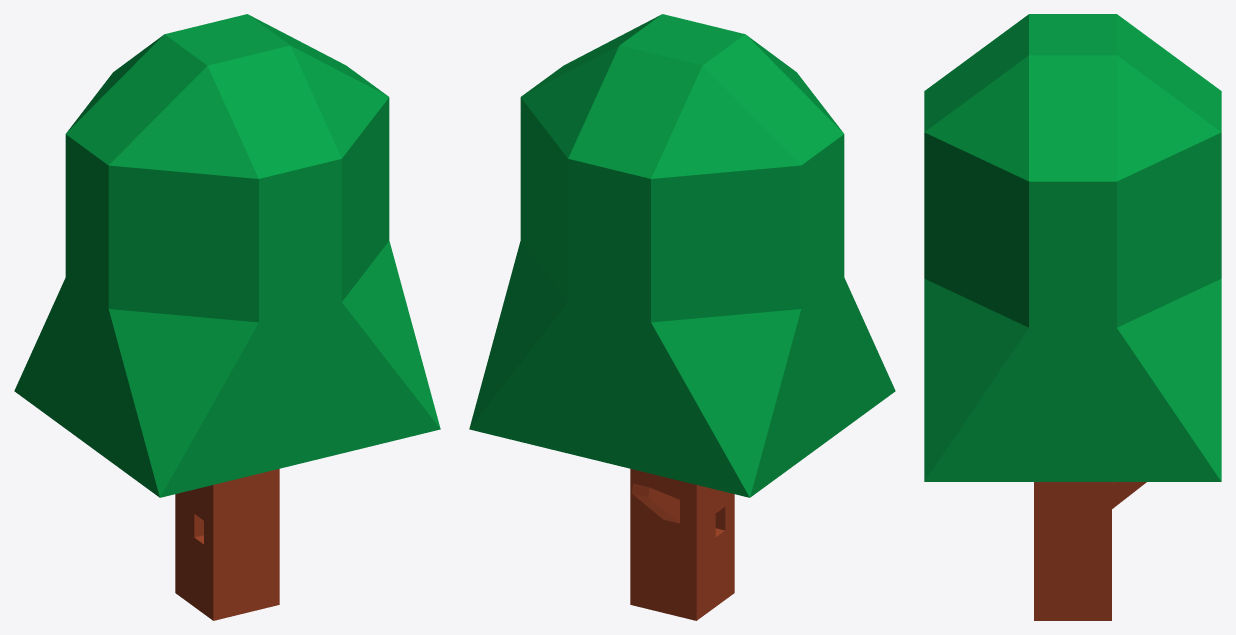
The model's file is tree.glb.
3 renders of one model, left to right at view 1: azimuth 30°, elevation 25°; view 2: azimuth 150°, elevation 25°; view 3: azimuth 270°, elevation 25°, orthographic.
Visible parts, largest first — view 1: Cube; view 2: Cube; view 3: Cube.
Boxes of the visible parts, left/top/right/bottom form: Cube: left=14, top=14, right=440, bottom=620; Cube: left=469, top=14, right=895, bottom=620; Cube: left=924, top=14, right=1221, bottom=620.
Size of the model in its own units: 8.46 by 16.1 by 7.61.
Materials: 1 (1 with a texture image).
